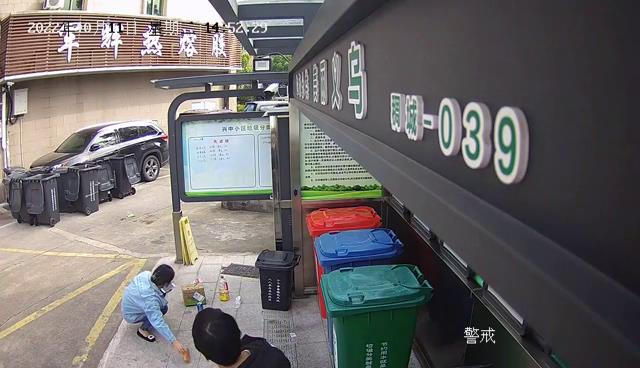lvzhipin: (181, 346, 189, 362), (196, 300, 203, 311)
person: (191, 306, 293, 368)
suliaozhipin: (217, 273, 231, 302)
worker: (121, 262, 190, 362)
zhizhipin: (181, 276, 207, 307)
